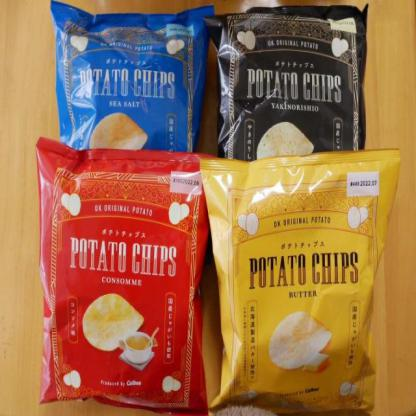potatochip: (198, 150, 401, 415), (33, 134, 218, 414), (50, 0, 212, 269), (201, 0, 371, 256)
